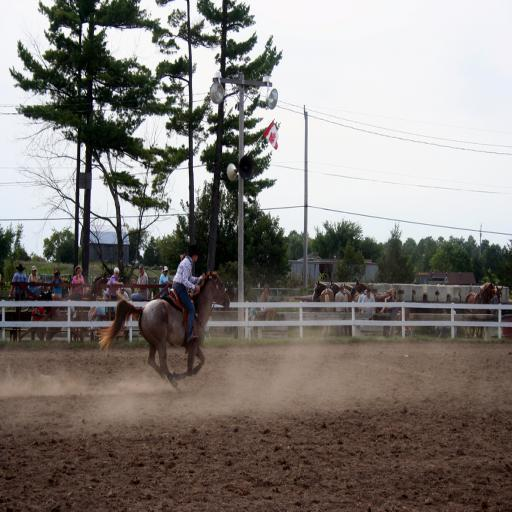horse: (95, 268, 230, 392)
